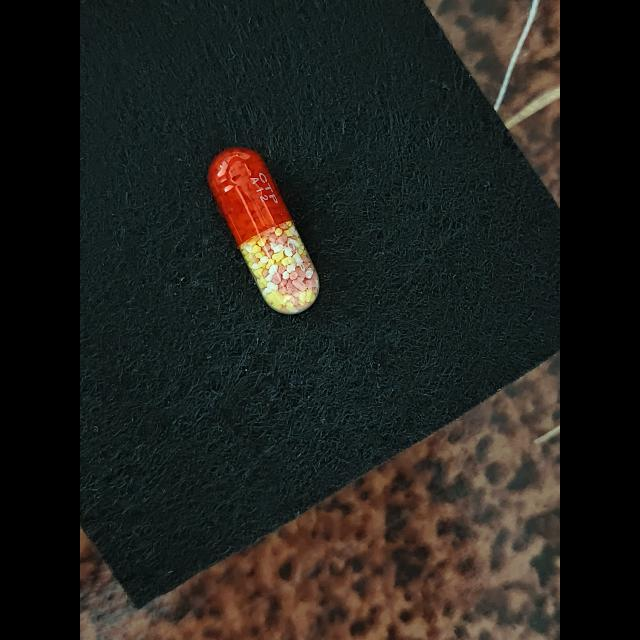Intact Capsule: (207, 147, 319, 314)
